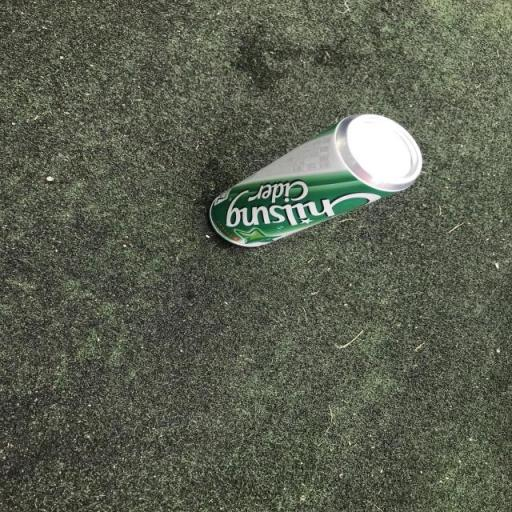metal: (186, 99, 436, 270)
